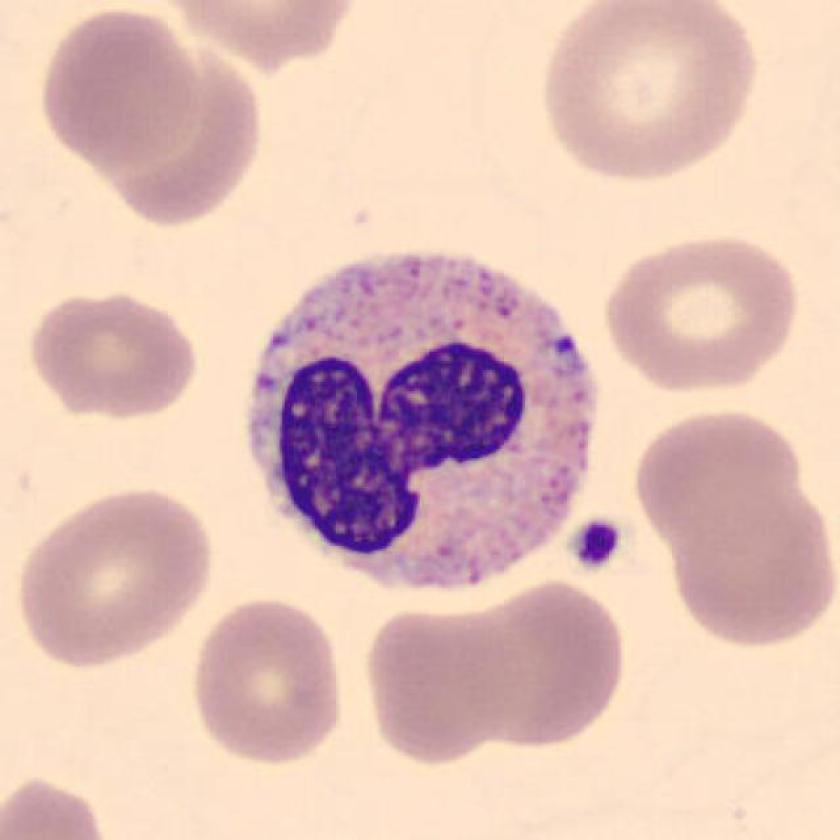neutrophil: (250, 256, 597, 587)
